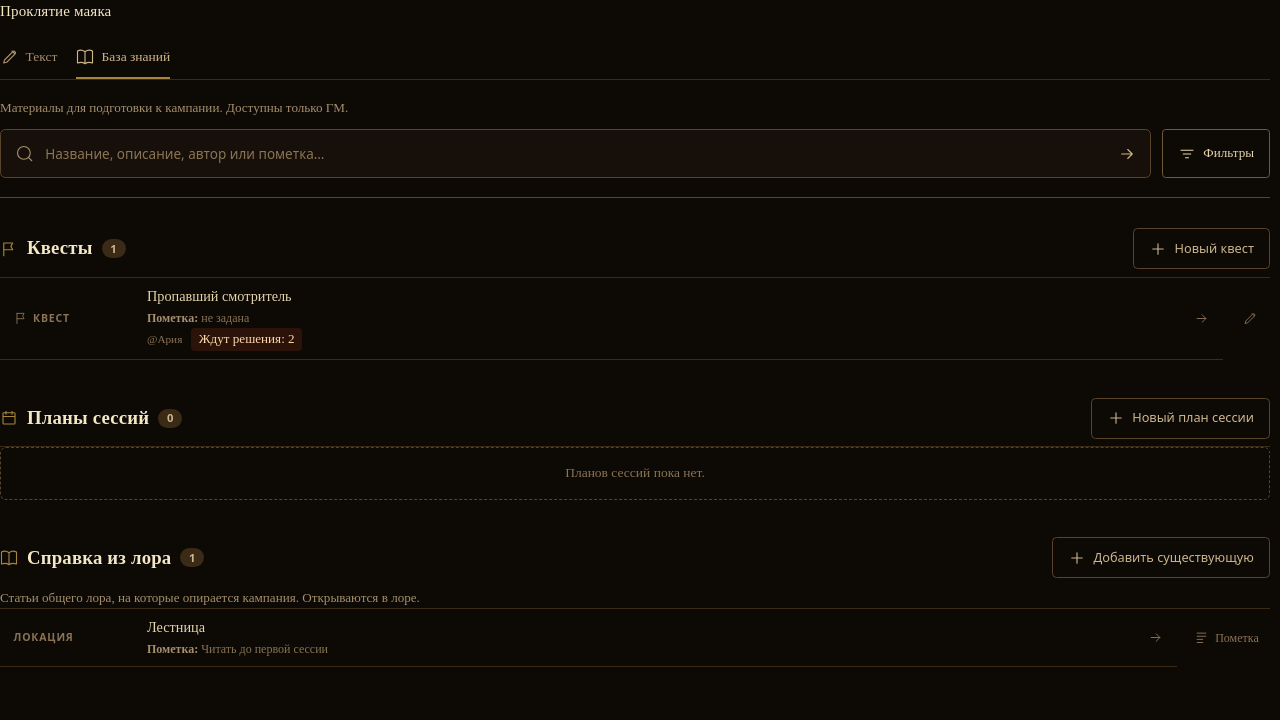
Test: public campaign knowledge base › shows material authors and pending proposals, and filters by them
The image size is (1280, 720).
Check: the link "Квест" shows "@Ария", box [0,278,1223,360]
Check: the text "Ждут решения: 2" is shown, box [191,328,302,351]
Step 1. Click the button "Фильтры" → (1216, 154), box [1162,129,1270,178]
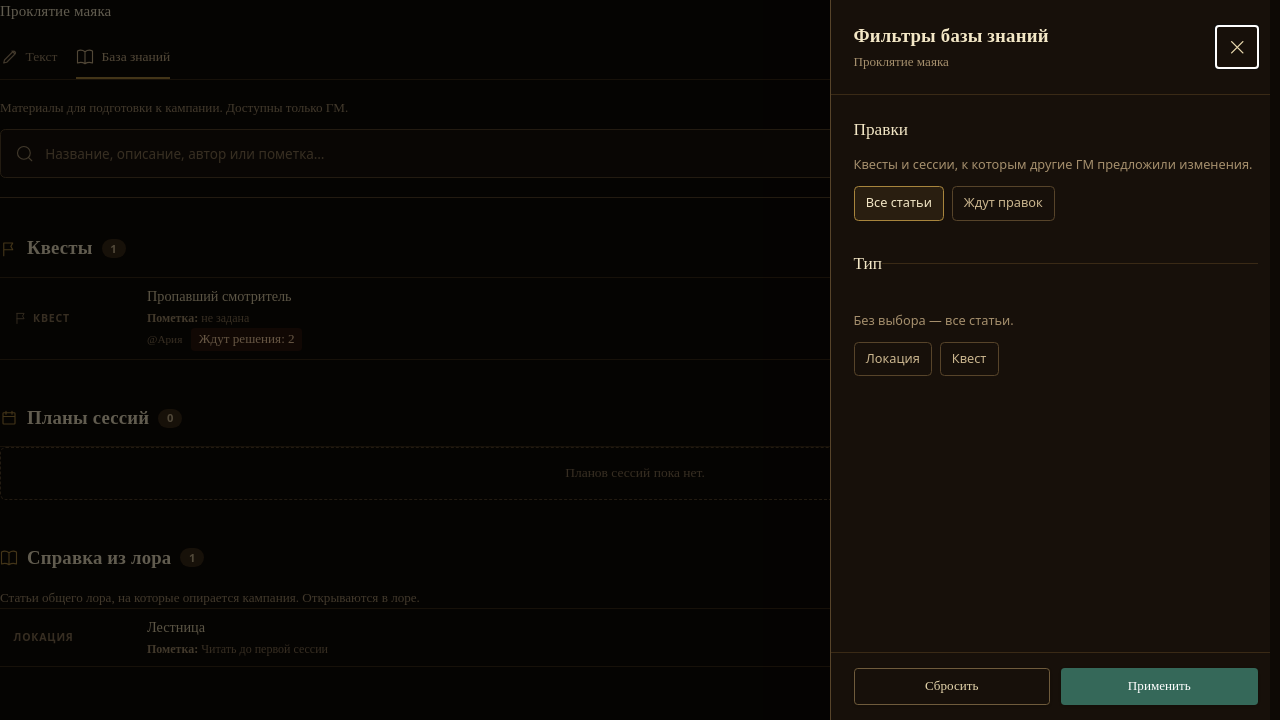
Step 2. Click the button "Ждут правок" → (1003, 203), box [952,186,1055,220]
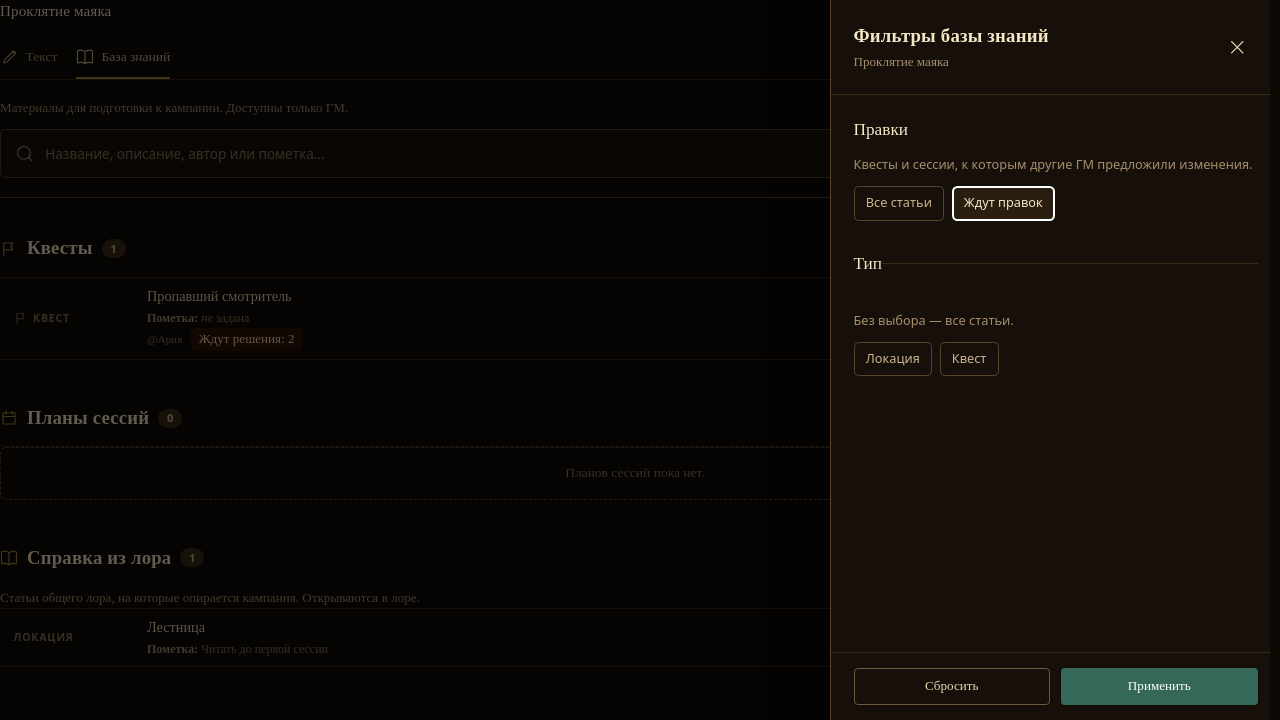
Step 3. Click the button "Применить" → (1159, 686), box [1061,668,1258,705]
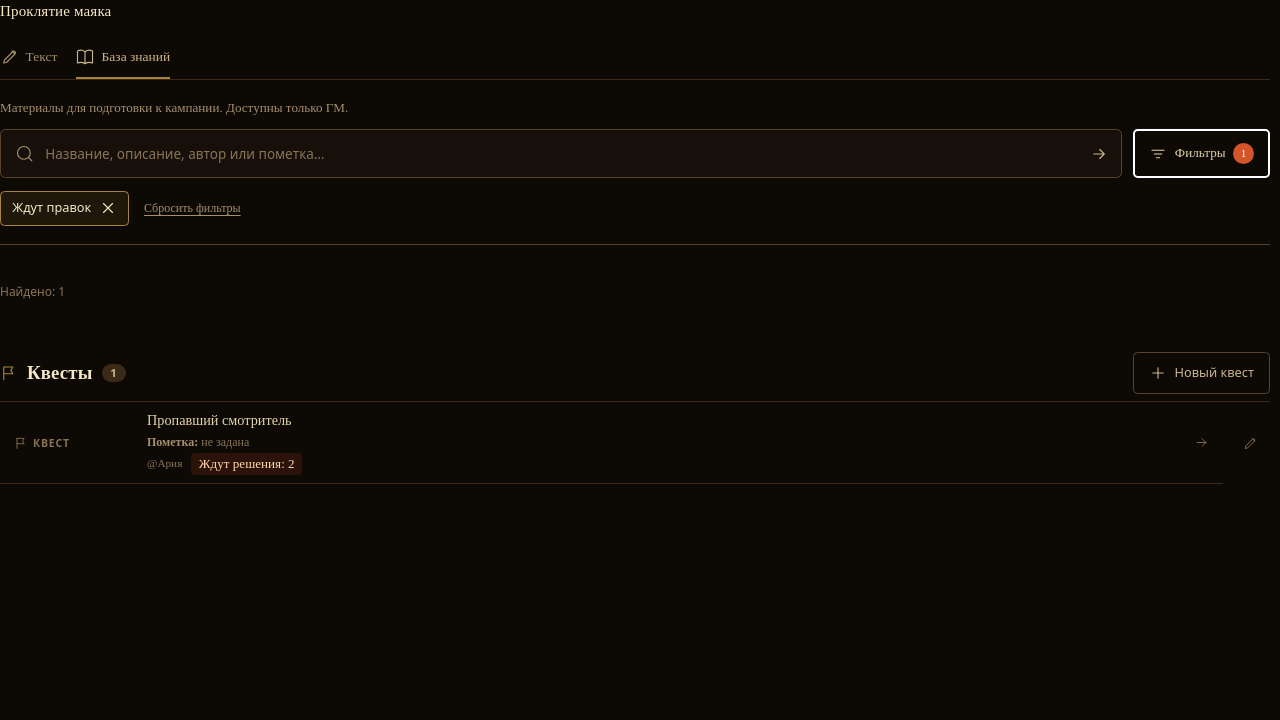
Check: the link "Квест" is shown, box [0,402,1223,484]
Check: the link "Лестница" is gone
